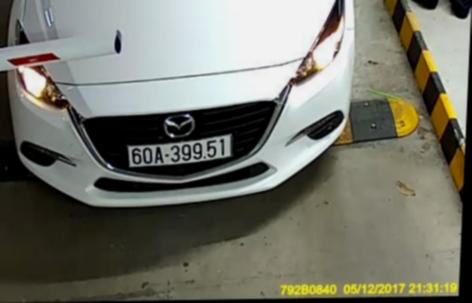License_Plate: (121, 136, 243, 167)
